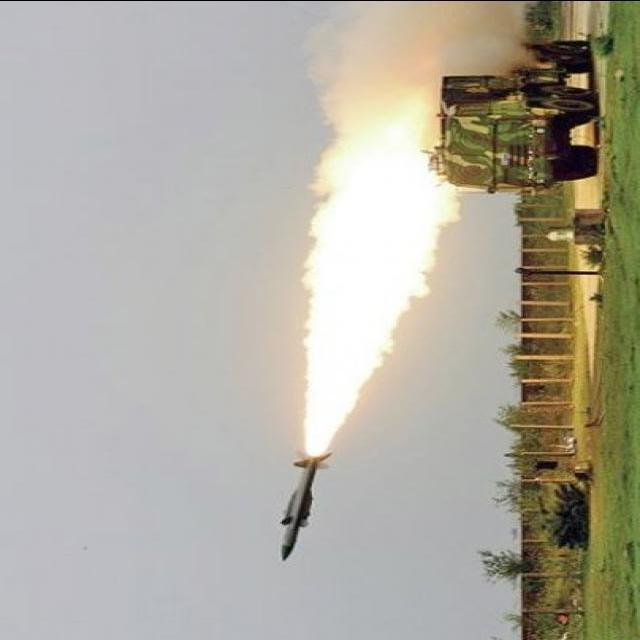missile: (270, 447, 333, 562)
